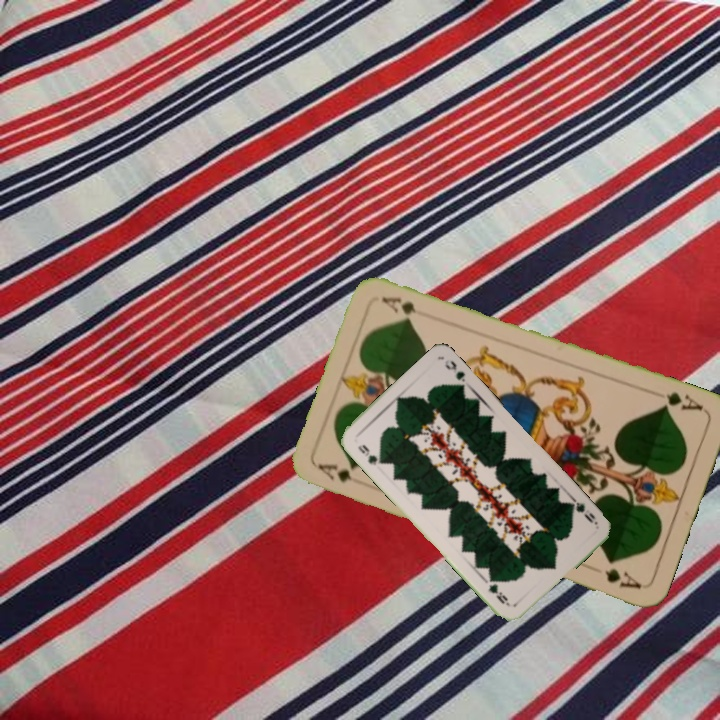G9: (564, 494, 601, 527), (353, 440, 386, 468)
GA: (314, 459, 371, 487), (658, 387, 706, 414)
